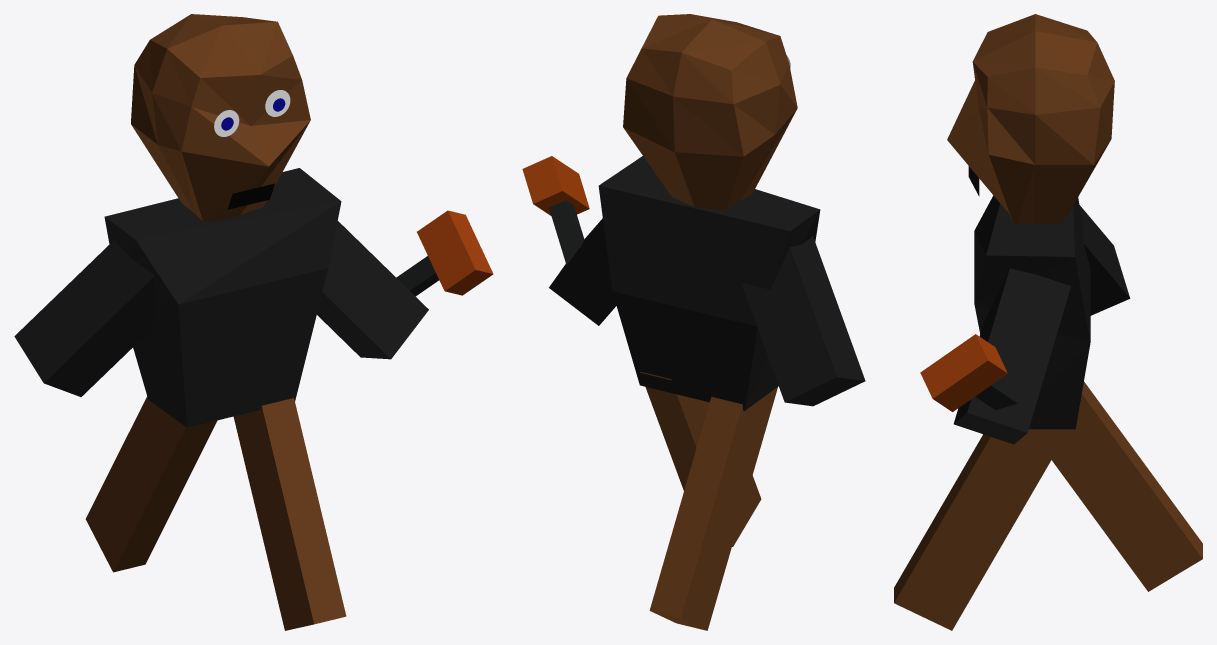
The model's file is servant3.obj.
The picture shows the model from 3 angles, left to right: view 1: azimuth 30°, elevation 25°; view 2: azimuth 150°, elevation 25°; view 3: azimuth 270°, elevation 25°; orthographic projection. The views are drawn at different scales.
Visible parts, largest first — view 1: Cube.001, Cube, Cube.005, Cube.003, Cube.004, Cube.002, Cube.008, Cube.007, Plane; view 2: Cube.001, Cube, Cube.004, Cube.003, Cube.005, Cube.002, Cube.008, Cube.007; view 3: Cube, Cube.005, Cube.004, Cube.001, Cube.002, Cube.008, Cube.003, Cube.007.
Part boxes in pixels (bbox=[...]): Cube.001: bbox=[104, 168, 341, 427]; Cube: bbox=[131, 14, 310, 221]; Cube.005: bbox=[233, 398, 346, 630]; Cube.003: bbox=[14, 240, 155, 396]; Cube.004: bbox=[85, 396, 217, 572]; Cube.002: bbox=[317, 221, 428, 359]; Cube.008: bbox=[417, 210, 493, 295]; Cube.007: bbox=[396, 256, 438, 296]; Plane: bbox=[227, 183, 274, 209]; Cube.001: bbox=[598, 156, 820, 410]; Cube: bbox=[623, 14, 797, 210]; Cube.004: bbox=[649, 387, 777, 630]; Cube.003: bbox=[741, 236, 865, 406]; Cube.005: bbox=[640, 371, 761, 546]; Cube.002: bbox=[549, 218, 616, 325]; Cube.008: bbox=[522, 156, 589, 215]; Cube.007: bbox=[549, 200, 584, 264]; Cube: bbox=[947, 14, 1114, 224]; Cube.005: bbox=[894, 429, 1068, 630]; Cube.004: bbox=[1052, 381, 1202, 591]; Cube.001: bbox=[974, 195, 1090, 429]; Cube.002: bbox=[953, 268, 1070, 444]; Cube.008: bbox=[920, 334, 1007, 411]; Cube.003: bbox=[1079, 205, 1130, 315]; Cube.007: bbox=[975, 380, 1017, 409].
Size of the model in its own units: 4.16 by 5.94 by 2.9.
